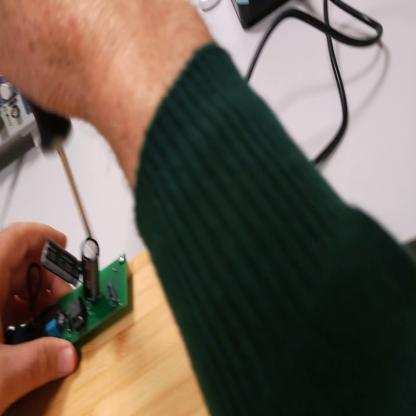hand: (2, 3, 189, 123), (2, 219, 79, 414)
high voltage board: (1, 237, 132, 344)
oscilloscope: (2, 79, 43, 154)
screwdriver-: (29, 107, 109, 257)
welder station: (233, 3, 293, 32)
working area: (1, 249, 207, 416)
